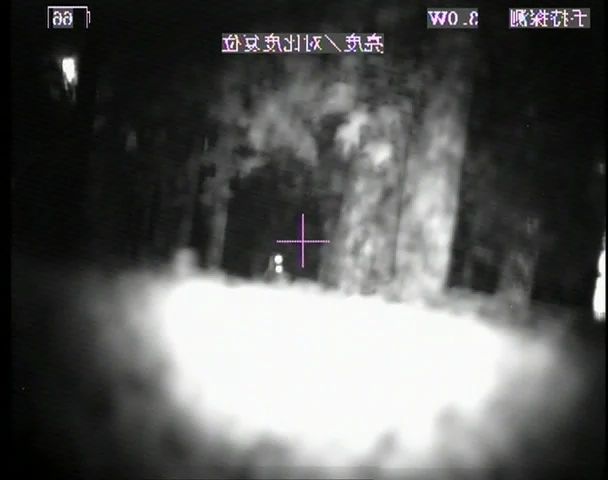my: (274, 253, 283, 265), (275, 265, 283, 273)
